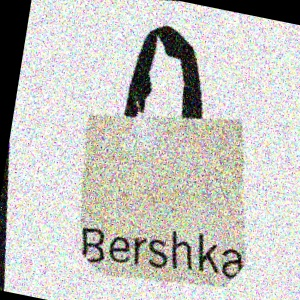bershka: (193, 116, 300, 300)
